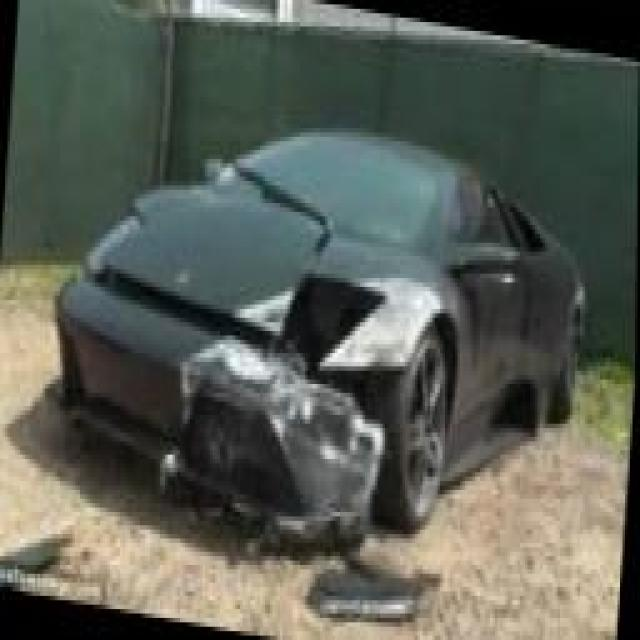Bonnet: (97, 173, 443, 342)
Bumper: (39, 268, 407, 547)
Fender: (326, 255, 469, 396)
Light: (279, 266, 384, 363)
